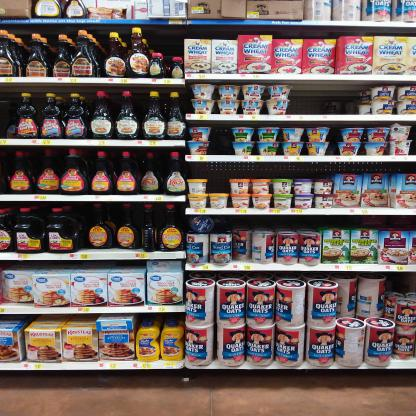Void: (222, 217, 415, 228), (295, 81, 356, 114), (233, 162, 334, 177), (388, 274, 416, 300), (213, 124, 234, 152), (209, 163, 226, 190)
